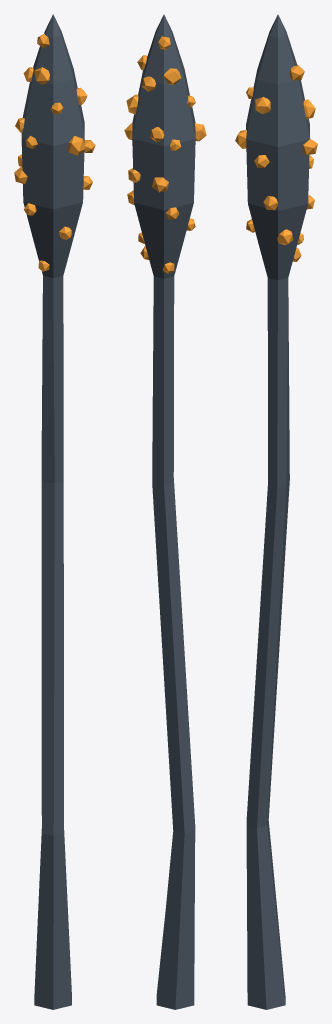
The model's file is AW_Tree03.fbx.
3 views of the same model, side by side, from view 1: azimuth 90°, elevation 25°; view 2: azimuth 150°, elevation 25°; view 3: azimuth 330°, elevation 25° (orthographic).
Visible parts, largest first — view 1: AW_Tree03; view 2: AW_Tree03; view 3: AW_Tree03.
Boxes of the visible parts, x1,y1,x2,y2 form: AW_Tree03: [14, 14, 95, 1009]; AW_Tree03: [124, 14, 206, 1009]; AW_Tree03: [235, 14, 317, 1009].
Bounding box in the file's own units: 28.76 × 391 × 29.44.
Materials: 1 (1 with a texture image).
